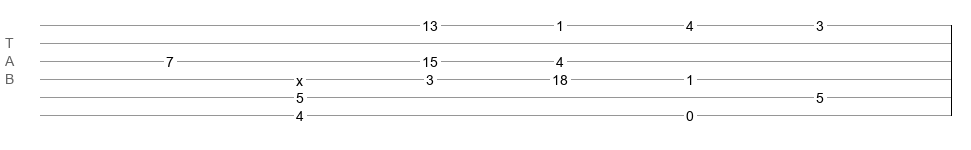0: (686, 108, 694, 118)
1: (556, 18, 564, 28), (686, 72, 694, 82)
13: (422, 18, 438, 28)
15: (422, 54, 438, 64)
18: (552, 72, 568, 82)
3: (426, 72, 434, 82), (816, 18, 824, 28)
4: (296, 108, 304, 118), (556, 54, 564, 64), (686, 18, 694, 28)
5: (296, 90, 304, 100), (816, 90, 824, 100)
7: (166, 54, 174, 64)
x: (296, 73, 303, 81)
